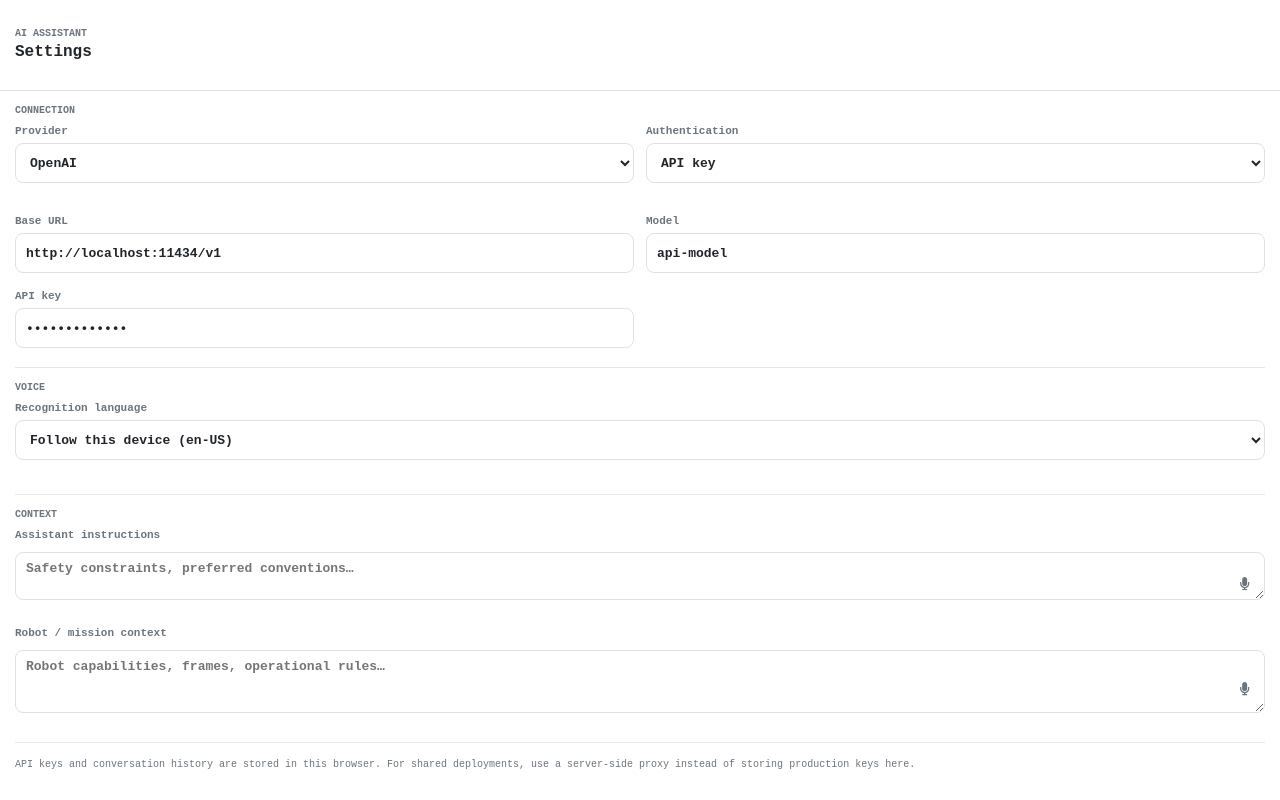
provider authentication settings › explains the desktop requirement on other platforms
Select "Sign in" in the dropdown labelled "Authentication" at [956, 163], box x1=646 y1=143 x2=1265 y2=183
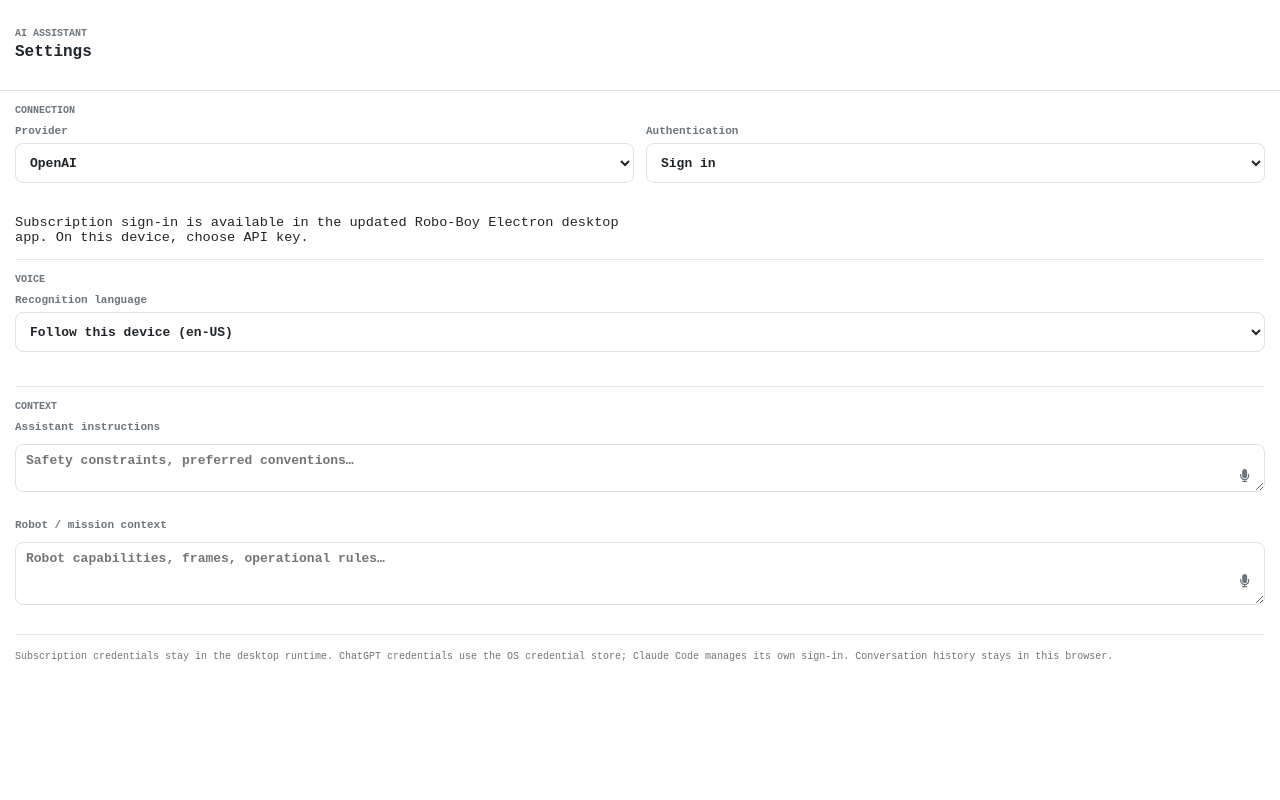
Expected: the text "Subscription sign-in is available in the updated" is shown, x1=15 y1=215 x2=619 y2=245
